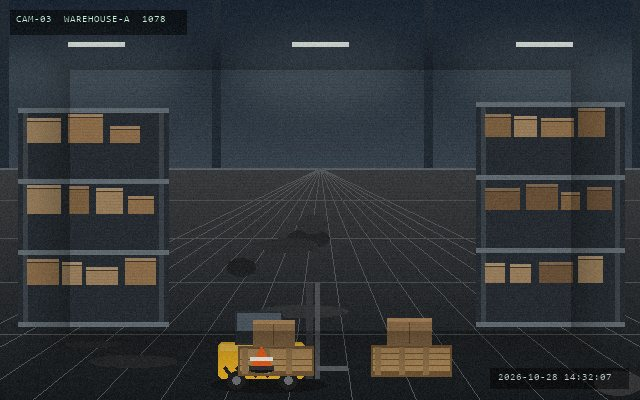cone: (248, 344, 274, 372)
forklift: (278, 334, 285, 338)
pallet: (369, 343, 453, 378), (236, 344, 315, 377)
shelf: (476, 102, 624, 322), (18, 108, 168, 322)
